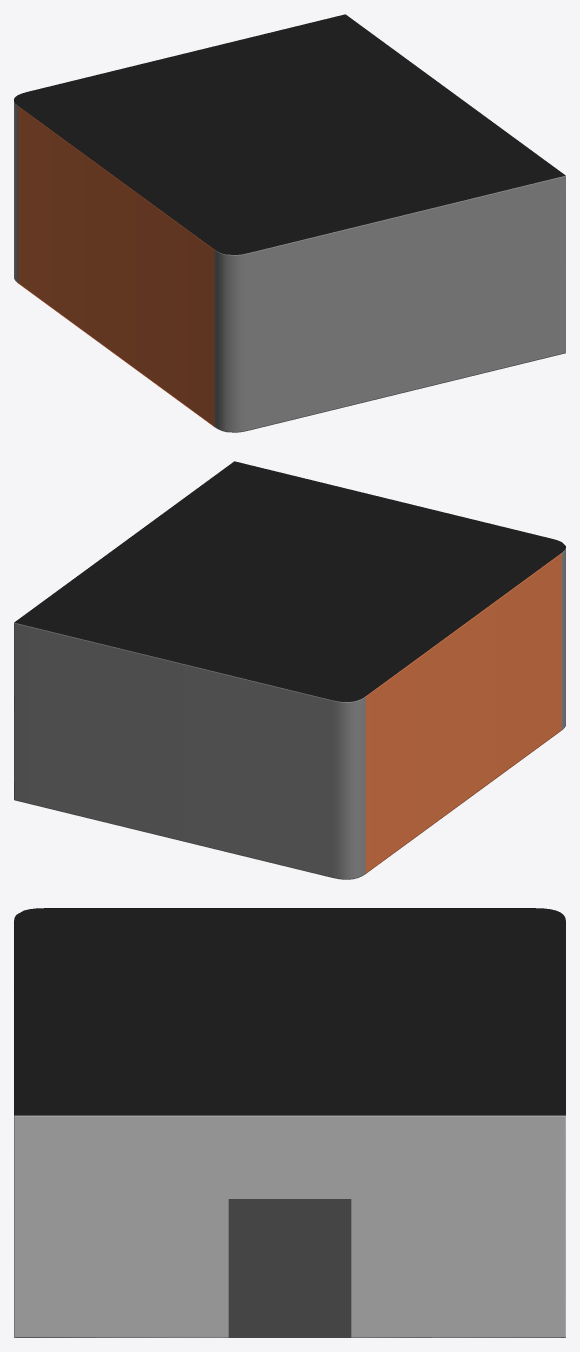
Rendered from Office_00.FBX.
3 views of the same model, one above another, from view 1: azimuth 30°, elevation 25°; view 2: azimuth 150°, elevation 25°; view 3: azimuth 270°, elevation 25° (orthographic). The views are drawn at different scales.
Parts seen in each view (by area): view 1: Plane005; view 2: Plane005; view 3: Plane005.
Boxes of the visible parts, x1,y1,x2,y2 form: Plane005: (14, 14, 565, 432); Plane005: (14, 461, 565, 879); Plane005: (14, 908, 565, 1337).
Size of the model in its own units: 800 by 900 by 400.
